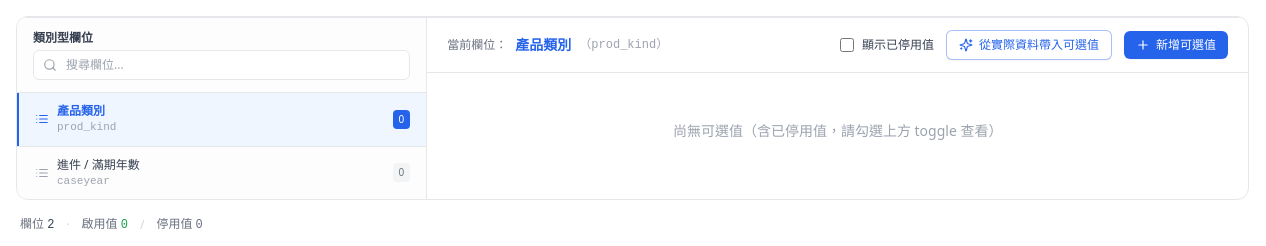
it: OptionsTab — master-detail 兩欄佈局（對齊 prototype 37-base-code.html L242-323） › options-tab-8：左欄搜尋過濾欄位清單
Check: the button with test id "column-item-prod_kind" is shown, box [17, 93, 426, 146]
Step 1. Type "caseyear" into the field with test id "input-column-search" → (222, 65), box [33, 50, 410, 80]
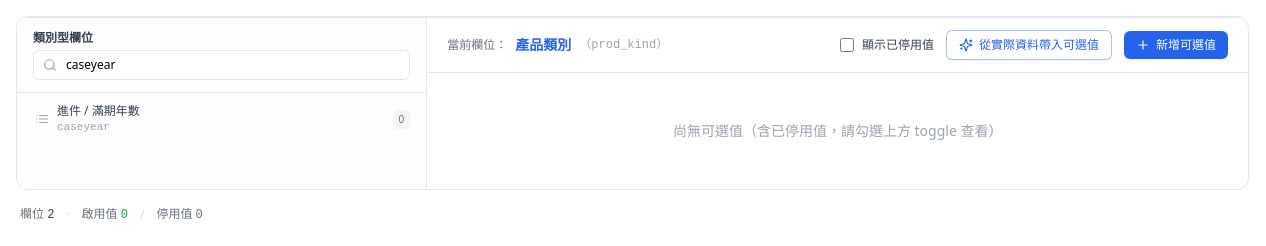
Check: the button with test id "column-item-caseyear" is shown, box [17, 93, 426, 146]
Check: the button with test id "column-item-prod_kind" is gone
